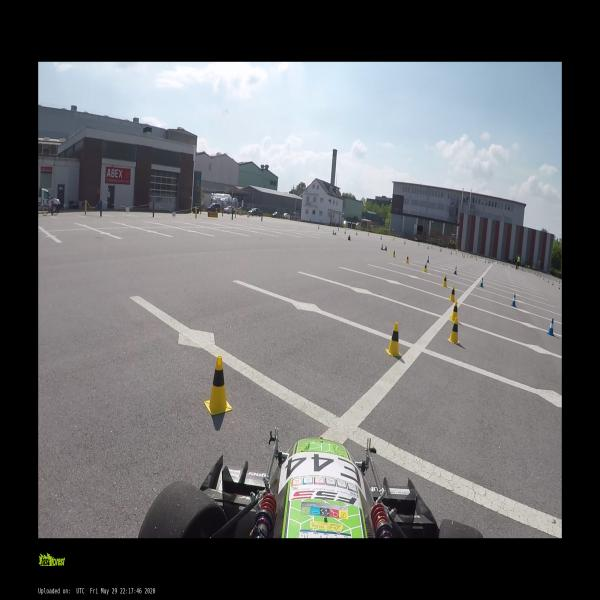blue_cone: (547, 318, 554, 336), (512, 293, 516, 307), (480, 278, 483, 288), (454, 266, 457, 275), (427, 256, 429, 263)
yellow_cone: (204, 355, 233, 414), (386, 322, 402, 357), (448, 317, 460, 345), (452, 302, 458, 323), (450, 286, 455, 302), (443, 274, 447, 288), (423, 263, 427, 273), (406, 255, 409, 264), (393, 250, 395, 258)
